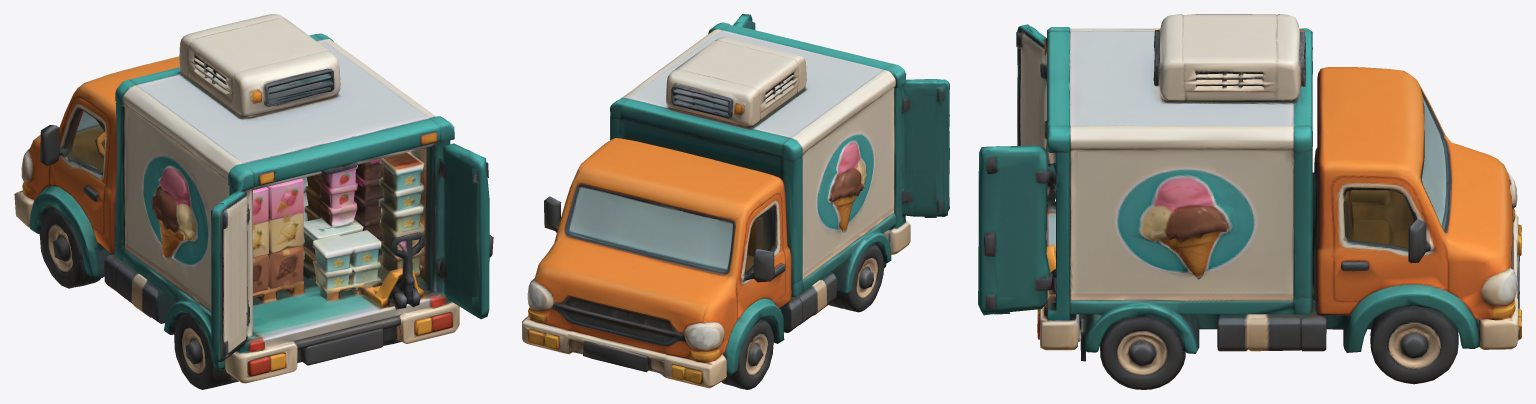
File: IceCreamTruck.glb
The picture shows the model from 3 angles, left to right: view 1: azimuth 30°, elevation 25°; view 2: azimuth 150°, elevation 25°; view 3: azimuth 270°, elevation 25°; orthographic projection. The views are drawn at different scales.
Parts seen in each view (by area): view 1: tripo_node_1a5378fa-b3db-471f-b49b-e332bf9cd14f; view 2: tripo_node_1a5378fa-b3db-471f-b49b-e332bf9cd14f; view 3: tripo_node_1a5378fa-b3db-471f-b49b-e332bf9cd14f.
Boxes of the visible parts, left/top/right/bottom form: tripo_node_1a5378fa-b3db-471f-b49b-e332bf9cd14f: left=14, top=14, right=493, bottom=389; tripo_node_1a5378fa-b3db-471f-b49b-e332bf9cd14f: left=522, top=14, right=949, bottom=389; tripo_node_1a5378fa-b3db-471f-b49b-e332bf9cd14f: left=978, top=14, right=1521, bottom=389.
Bounding box in the file's own units: 0.6024 × 0.5941 × 0.9802.
Materials: 1 (1 with a texture image).
